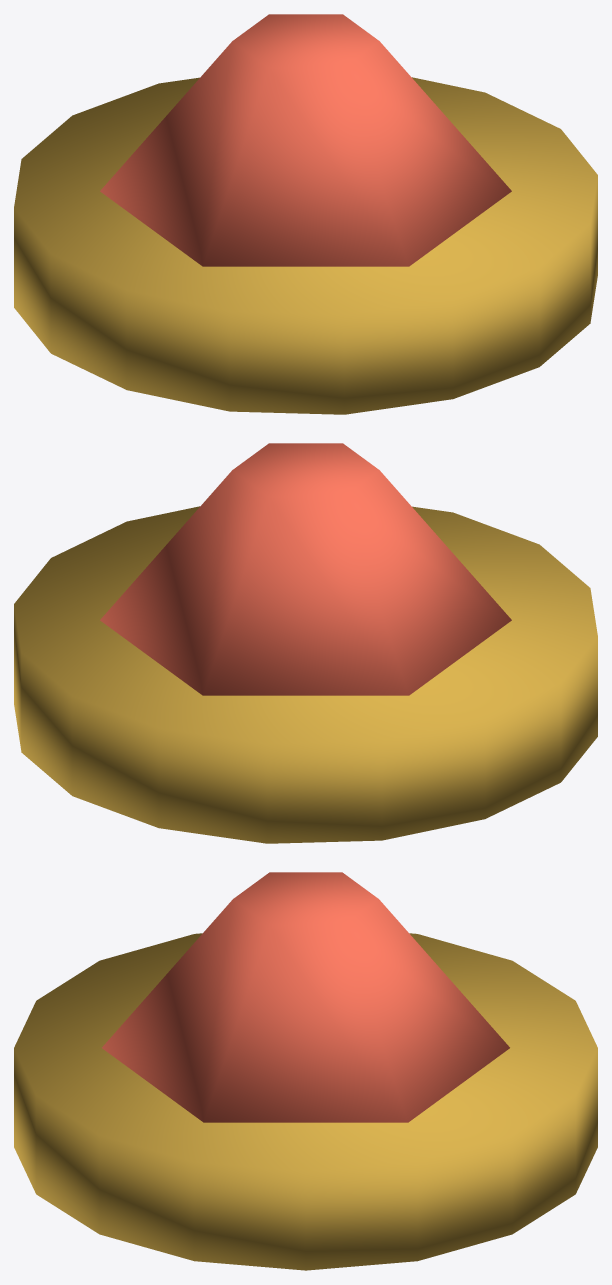
Rendered from TaskBoard_PriorityBadge.fbx.
3 renders of one model, top to bottom at view 1: azimuth 30°, elevation 25°; view 2: azimuth 150°, elevation 25°; view 3: azimuth 270°, elevation 25°, orthographic.
Visible parts, largest first — view 1: Badge_Base, Badge_Gem; view 2: Badge_Base, Badge_Gem; view 3: Badge_Base, Badge_Gem.
Part boxes in pixels (<box>): Badge_Base: <box>14,77,597,414</box>; Badge_Gem: <box>100,14,511,266</box>; Badge_Base: <box>14,506,597,843</box>; Badge_Gem: <box>100,443,511,695</box>; Badge_Base: <box>14,933,597,1270</box>; Badge_Gem: <box>102,872,509,1122</box>.
Size of the model in its own units: 1.6 by 0.75 by 1.6.
